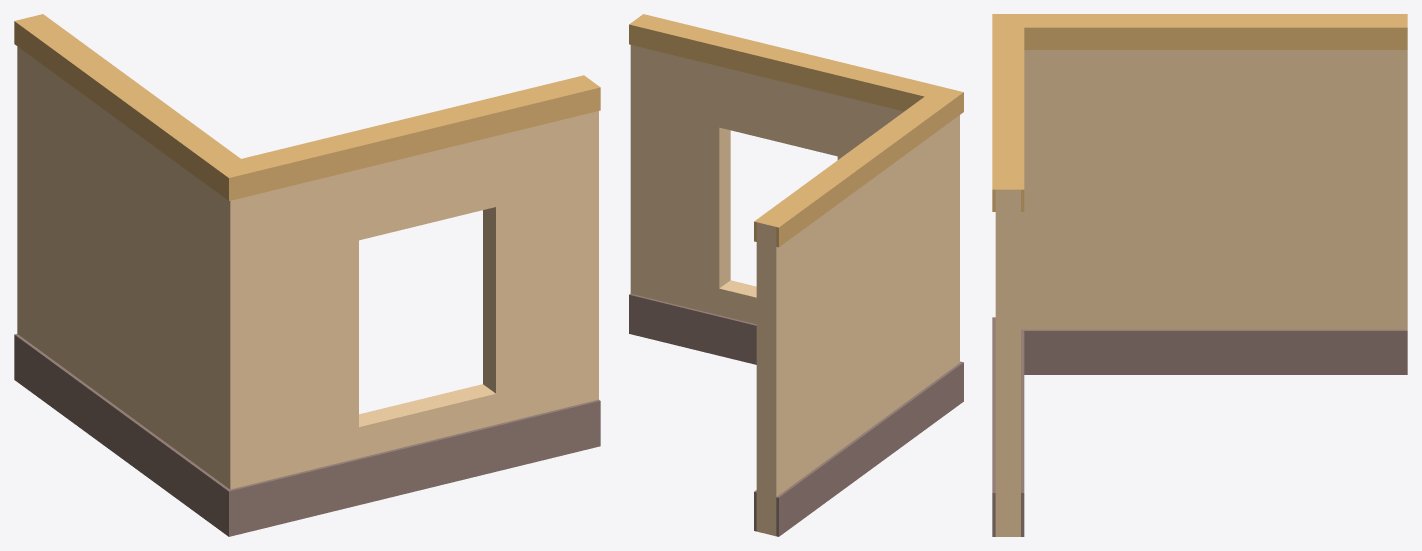
The model's file is Wall04-01.fbx.
3 renders of one model, left to right at view 1: azimuth 30°, elevation 25°; view 2: azimuth 150°, elevation 25°; view 3: azimuth 270°, elevation 25°, orthographic. The views are drawn at different scales.
Visible parts, largest first — view 1: Wall04-01; view 2: Wall04-01; view 3: Wall04-01.
Boxes of the visible parts, bbox=[...] form: Wall04-01: bbox=[14, 14, 600, 536]; Wall04-01: bbox=[629, 14, 963, 536]; Wall04-01: bbox=[992, 14, 1407, 536].
Bounding box in the file's own units: 3.25 × 3.25 × 3.
